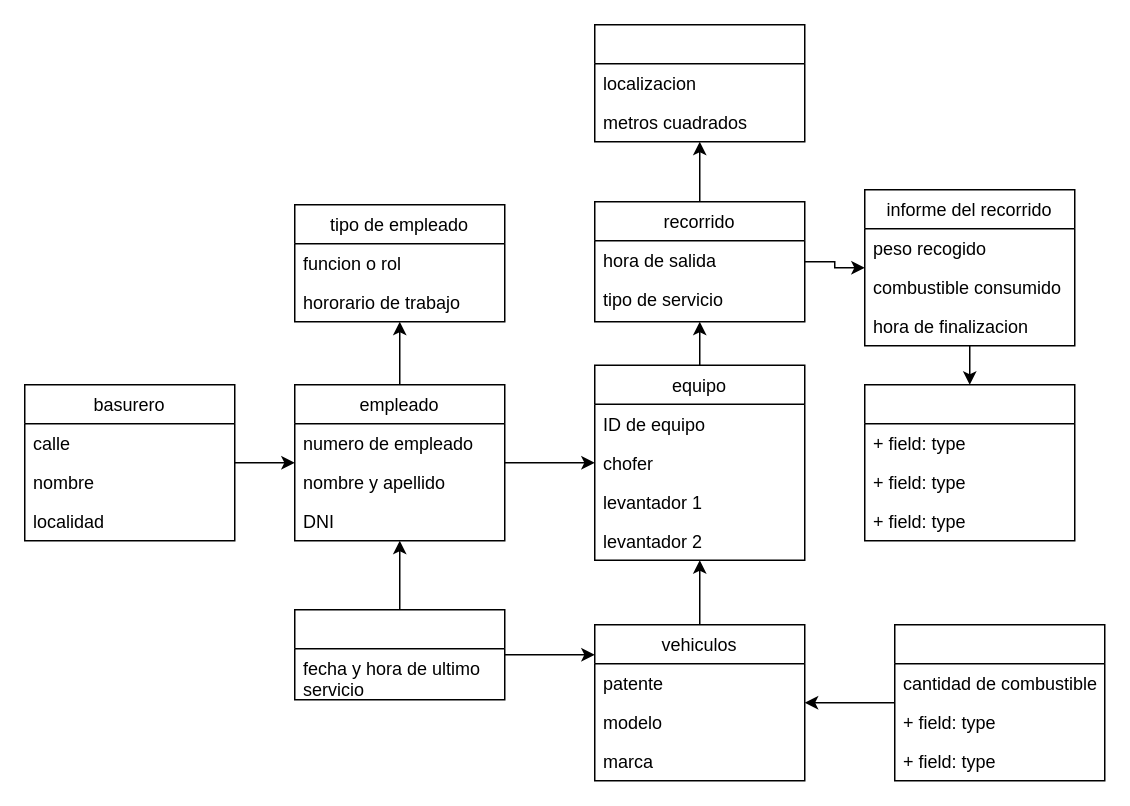
This 1130x806 diagram has some shape labels left out. The box of each missing label's shape, as (x1, y1, x2, y2) in pixels:
disponibilidad: (293, 608, 505, 700)
estado del vehiculo: (893, 623, 1105, 781)
municipo asignado: (593, 23, 805, 142)
novedades producidas: (863, 383, 1075, 541)
